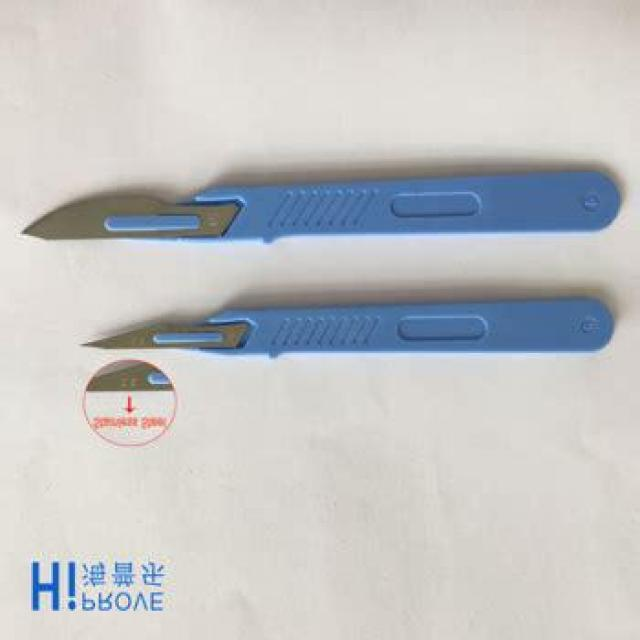Scalpel: (18, 165, 624, 252), (82, 292, 622, 364)
